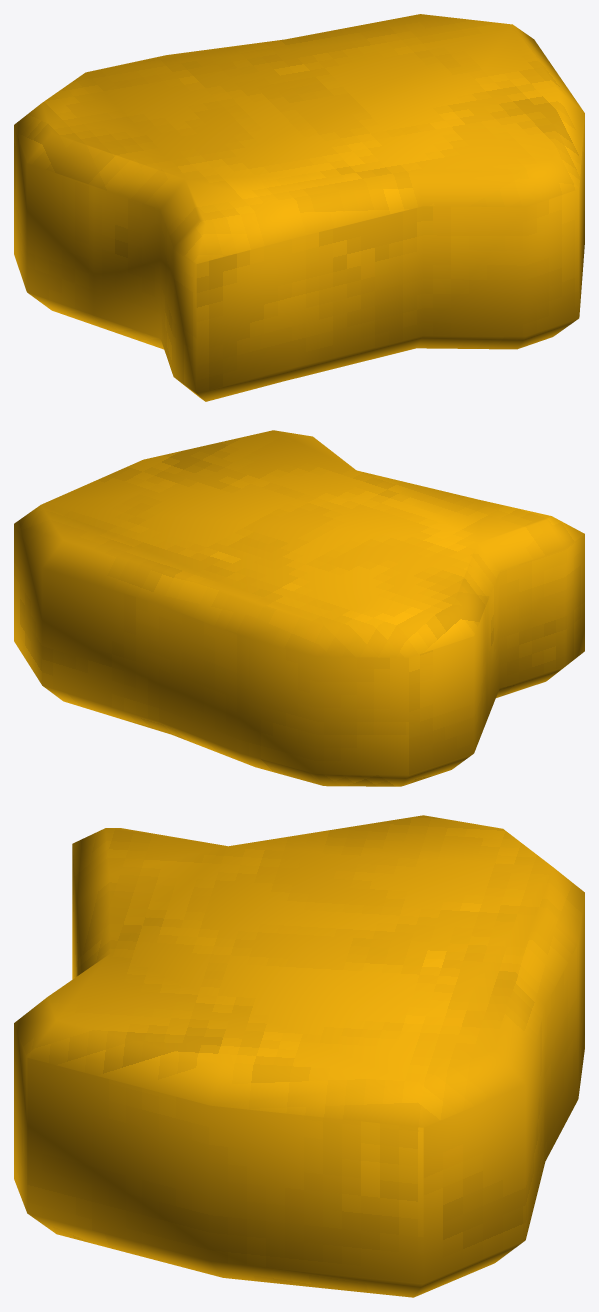
File: fried_chiken.glb
3 renders of one model, top to bottom at view 1: azimuth 30°, elevation 25°; view 2: azimuth 150°, elevation 25°; view 3: azimuth 270°, elevation 25°, orthographic. The views are drawn at different scales.
Parts seen in each view (by area): view 1: BézierCurve.001; view 2: BézierCurve.001; view 3: BézierCurve.001.
Part boxes in pixels (bbox=[...]): BézierCurve.001: bbox=[14, 14, 584, 401]; BézierCurve.001: bbox=[14, 430, 584, 786]; BézierCurve.001: bbox=[14, 815, 584, 1297].
Size of the model in its own units: 2.51 by 0.84 by 2.03.
Materials: 1 (1 with a texture image).
